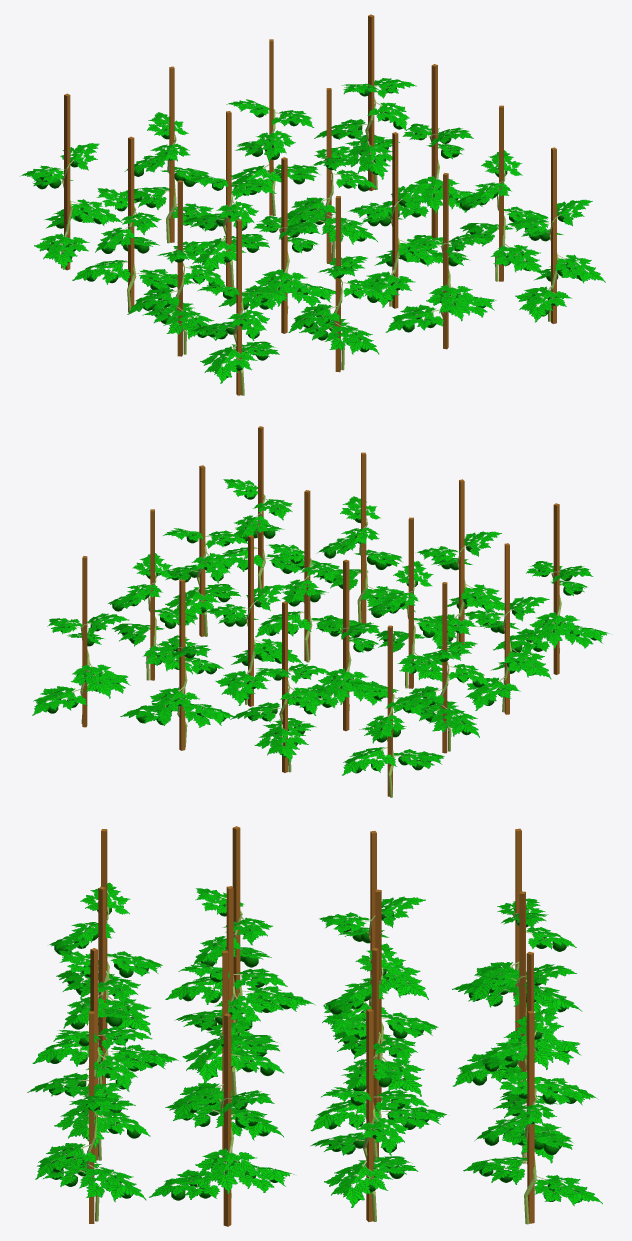
The model's file is Tomato_F2.fbx.
3 renders of one model, top to bottom at view 1: azimuth 30°, elevation 25°; view 2: azimuth 150°, elevation 25°; view 3: azimuth 270°, elevation 25°, orthographic. The views are drawn at different scales.
Visible parts, largest first — view 1: Tomatoe_F2; view 2: Tomatoe_F2; view 3: Tomatoe_F2.
Boxes of the visible parts, box(x1,y1,x2,y2) form: Tomatoe_F2: box(20, 14, 605, 395); Tomatoe_F2: box(32, 426, 609, 797); Tomatoe_F2: box(27, 826, 602, 1226).
Bounding box in the file's own units: 228 × 89.09 × 232.
